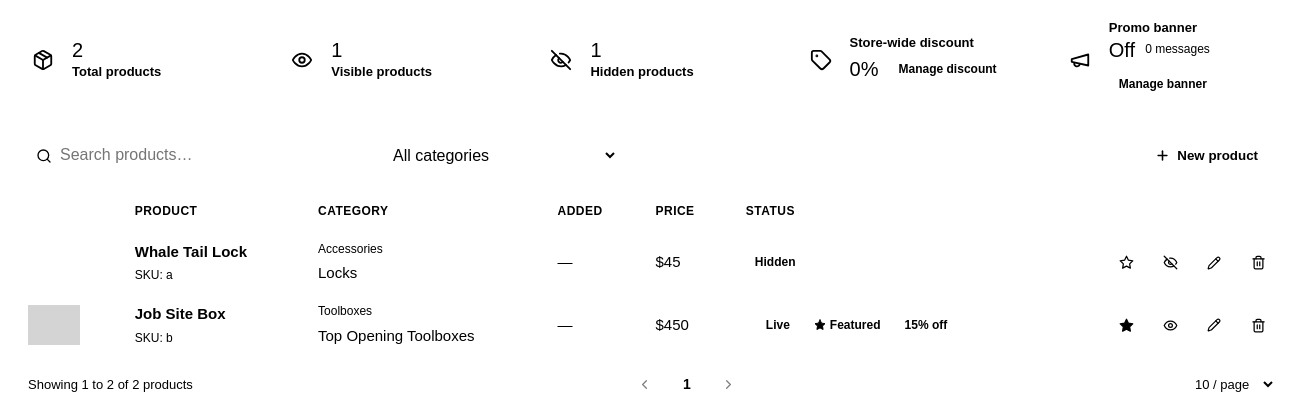
Test: ProductList › deletes in two steps from the trash button
Click the button named "delete whale tail lock": click(1258, 263) [1240, 245, 1276, 281]
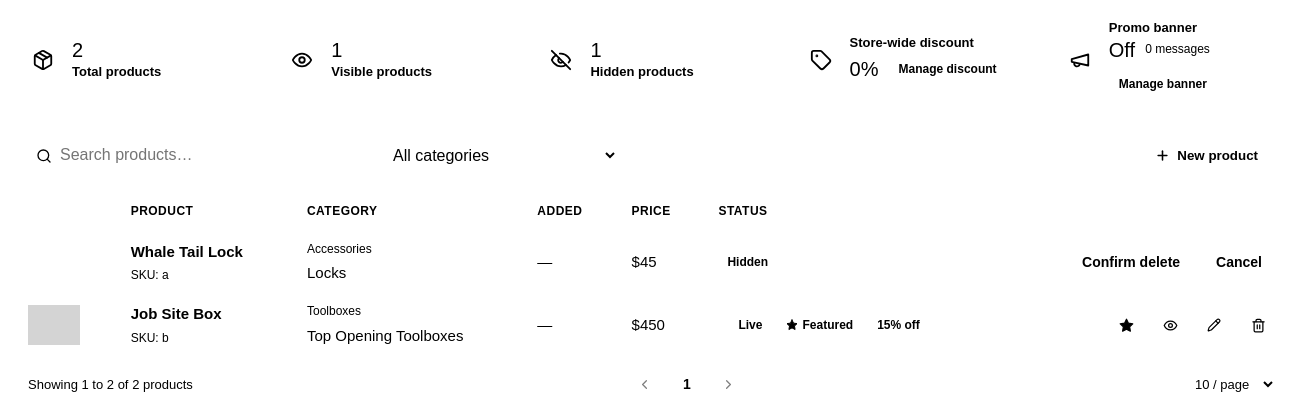
Check: the button "Confirm delete" is shown, box [1068, 243, 1194, 282]
Check: the button "Cancel" is shown, box [1202, 243, 1276, 282]
